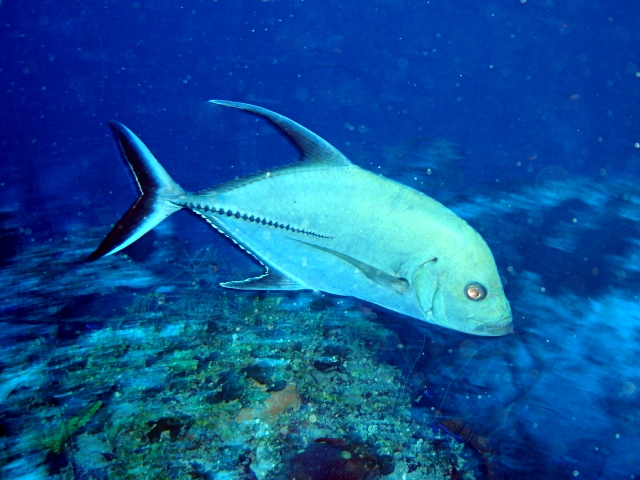fish: (89, 97, 514, 337)
